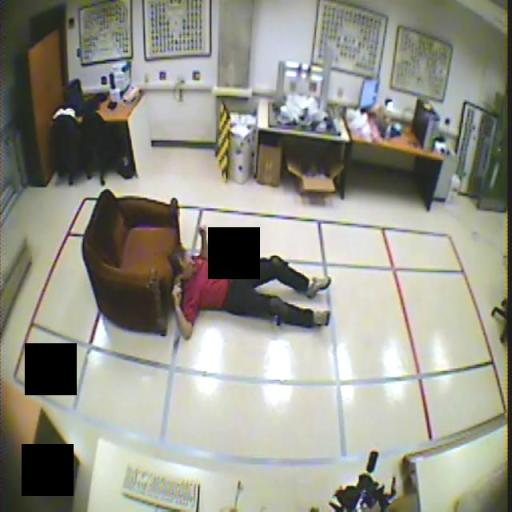Fall: (168, 223, 332, 340)
